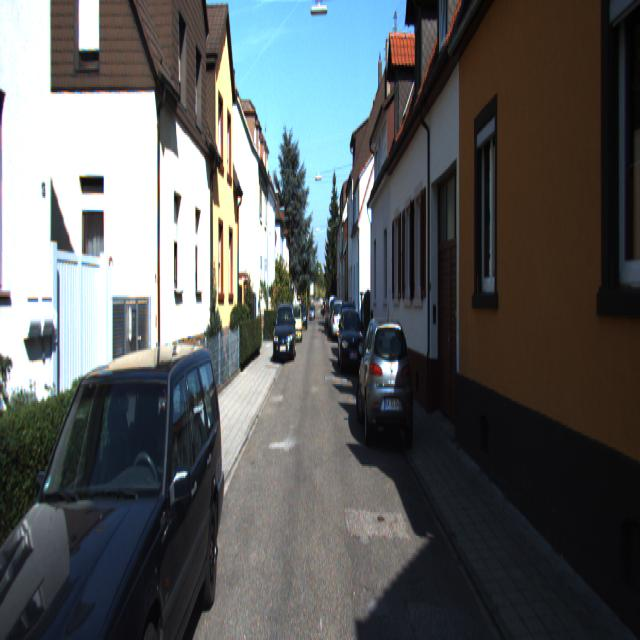Car: (0, 340, 225, 638), (356, 312, 412, 452), (338, 308, 366, 381), (274, 306, 296, 368), (332, 300, 346, 345), (289, 305, 302, 344)
